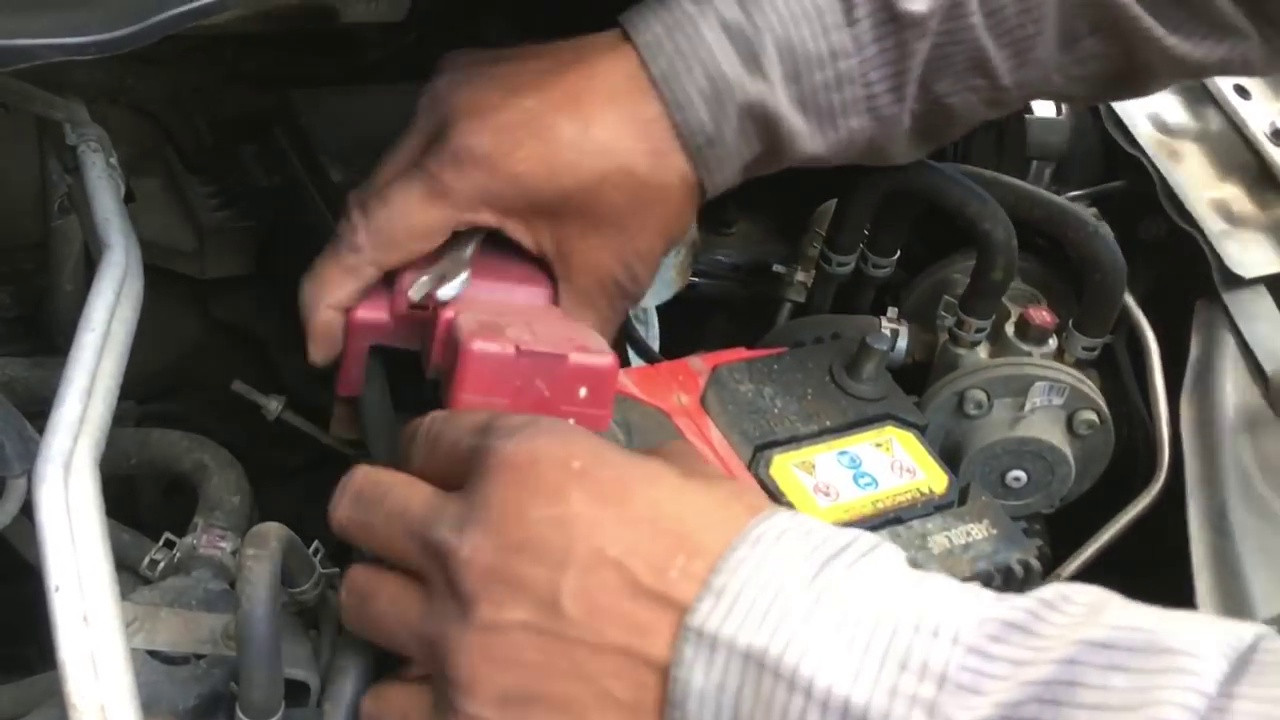battery: (364, 278, 1004, 609)
neg_disconnected: (790, 316, 927, 421)
pos_touched: (357, 209, 631, 542)
